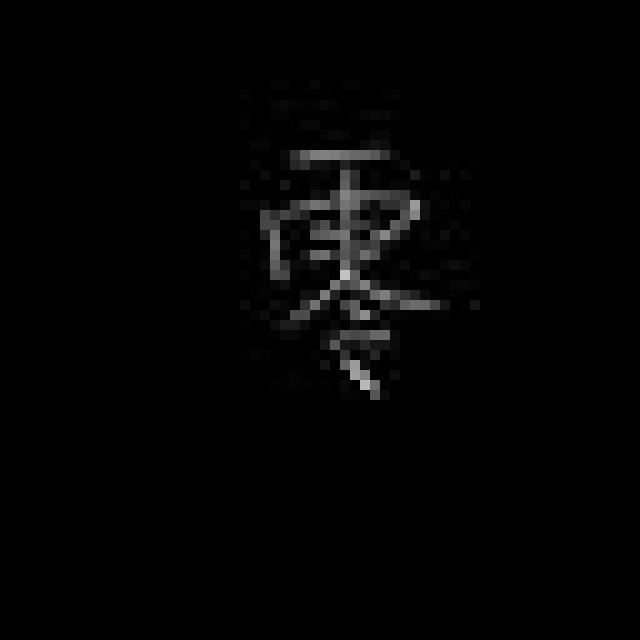0 -zero-: (257, 133, 446, 404)
